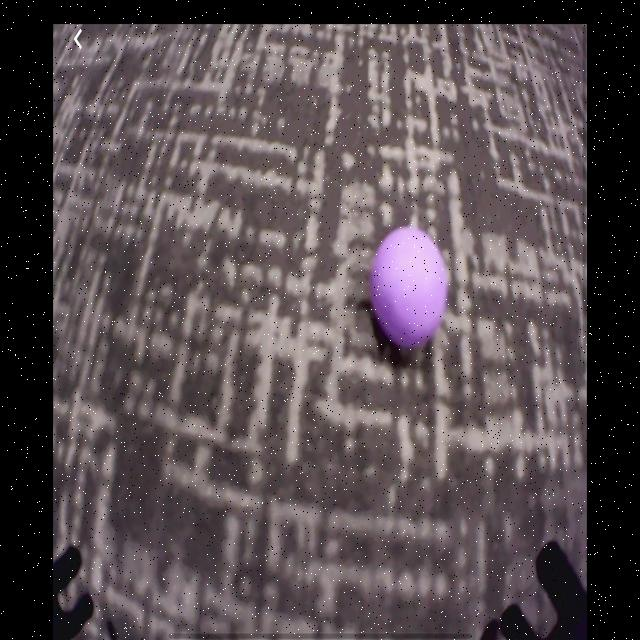ball: (371, 228, 451, 353)
